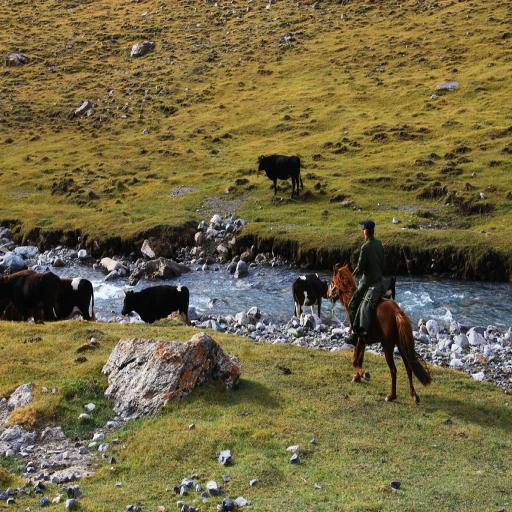Horse: (326, 264, 432, 405)
